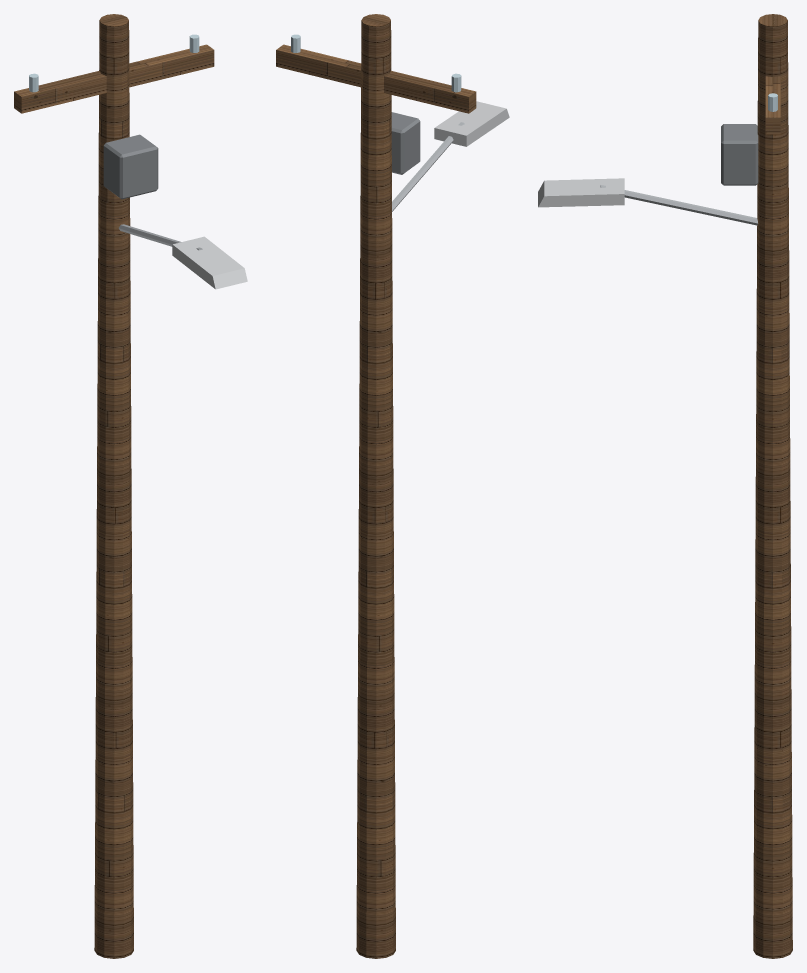
Rendered from yard_light.glb.
The picture shows the model from 3 angles, left to right: view 1: azimuth 30°, elevation 25°; view 2: azimuth 150°, elevation 25°; view 3: azimuth 270°, elevation 25°; orthographic projection.
Parts seen in each view (by area): view 1: yard_light_post, yard_light_steel_d, yard_light_metal; view 2: yard_light_post, yard_light_metal, yard_light_steel_d, yard_light_steel; view 3: yard_light_post, yard_light_metal, yard_light_steel_d, yard_light_steel.
Part boxes in pixels (x1,y1,x2,y2): yard_light_post: [14, 14, 214, 958]; yard_light_steel_d: [103, 134, 158, 199]; yard_light_metal: [172, 236, 247, 289]; yard_light_post: [276, 14, 476, 958]; yard_light_metal: [434, 101, 509, 146]; yard_light_steel_d: [391, 112, 420, 174]; yard_light_steel: [392, 122, 464, 211]; yard_light_post: [753, 14, 792, 958]; yard_light_metal: [538, 178, 624, 207]; yard_light_steel_d: [721, 124, 758, 185]; yard_light_steel: [600, 185, 757, 225].
Bounding box in the file's own units: 1.8 × 8.3 × 2.06.
Materials: 6 (1 with a texture image).
